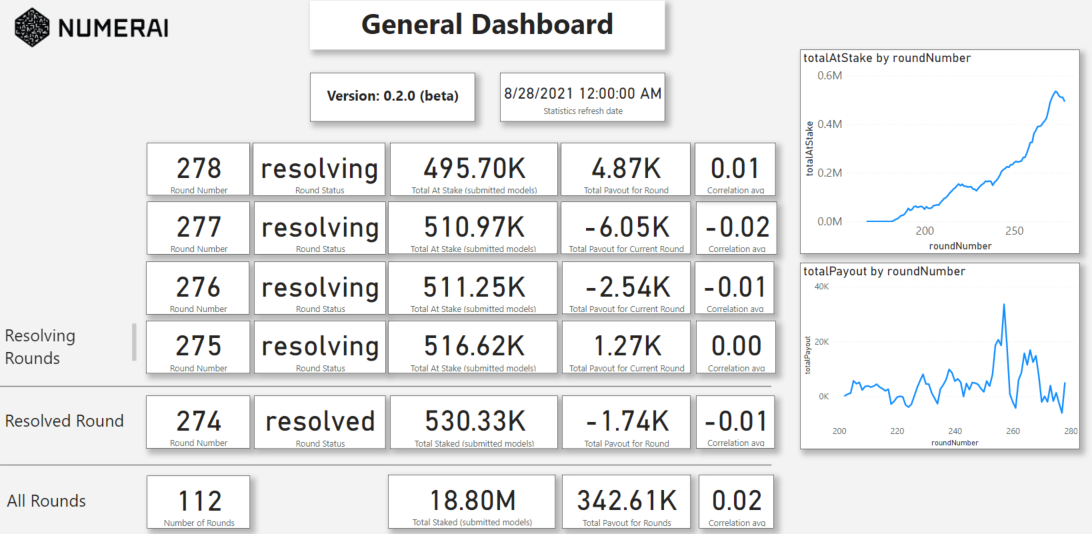

This screenshot's page, from the dashboard's own definition file:
{"tool":"powerbi","page":{"name":"General","canvas":[2076,1020],"ordinal":0},"visuals":[{"type":"card","fields":{"Values":["Max(roundDetails.roundNumber)"]},"box":[282.5,277.5,194.8,99.8],"z":0},{"type":"card","fields":{"Values":["Min(roundDetails.status)"]},"box":[483.2,276.9,250.9,100.4],"z":1000},{"type":"card","fields":{"Values":["Sum(roundDetails.totalAtStake)"]},"box":[743.4,276.9,317.8,100.4],"z":2000},{"type":"image","box":[24.5,6.1,310.9,104.3],"z":3000},{"type":"textbox","box":[590.5,6.9,672.9,92.7],"z":4000},{"type":"card","fields":{"Values":["Sum(roundDetails.totalPayout)"]},"box":[1066.8,276.9,245.3,100.4],"z":5000},{"type":"textbox","box":[7.2,774.4,257.7,59.3],"z":6000},{"type":"textbox","box":[11.3,927.1,257.7,61.4],"z":7000},{"type":"card","fields":{"Values":["Max(roundDetails.roundNumber)"]},"box":[280,756,197,100],"z":8000},{"type":"card","fields":{"Values":["Min(roundDetails.status)"]},"box":[485.1,756.4,249,100.4],"z":9000},{"type":"card","fields":{"Values":["Sum(roundDetails.totalAtStake)"]},"box":[743.4,756.4,317.8,100.4],"z":10000},{"type":"card","fields":{"Values":["Sum(roundDetails.totalPayout)"]},"box":[1068.7,756.4,243.5,100.4],"z":11000},{"type":"card","fields":{"Values":["Avg(allRoundModelPerformances.corr)"]},"box":[1322,756,149,100],"z":12000},{"type":"card","fields":{"Values":["Sum(roundDetails.totalAtStake)"]},"box":[740.1,905.9,317.4,102],"z":13000},{"type":"card","fields":{"Values":["Sum(roundDetails.totalPayout)"]},"box":[1069,906,244,102],"z":14000},{"type":"card","fields":{"Values":["Avg(allRoundModelPerformances.corr)"]},"box":[1329,906,142,102],"z":15000},{"type":"card","fields":{"Values":["Count(roundDetails.roundNumber)"]},"box":[282,907,195,100],"z":16000},{"type":"shape","box":[-0.5,713.9,1465.9,48.1],"z":17000},{"type":"shape","box":[4.2,874.7,1462.5,24],"z":18000},{"type":"lineChart","fields":{"Y":["Sum(roundDetails.totalAtStake)"],"Category":["roundDetails.roundNumber"]},"box":[1520.3,100.4,529.7,386.6],"z":19000},{"type":"lineChart","fields":{"Y":["Sum(roundDetails.totalPayout)"],"Category":["roundDetails.roundNumber"]},"box":[1520.3,503.7,529.7,353.1],"z":20000},{"type":"card","fields":{"Values":["Max(roundDetails.roundNumberMin1)"]},"box":[282.5,389.1,194.8,99.8],"z":22000},{"type":"card","fields":{"Values":["Min(roundDetails.status)"]},"box":[485,389,250,100],"z":23000},{"type":"card","fields":{"Values":["Sum(roundDetails.totalAtStake)"]},"box":[740,389,321,99],"z":24000},{"type":"card","fields":{"Values":["Sum(roundDetails.totalPayout)"]},"box":[1067,389,246,99],"z":25000},{"type":"card","fields":{"Values":["Avg(allRoundModelPerformances.corr)"]},"box":[1322.3,389.1,153.4,99.8],"z":26000},{"type":"card","fields":{"Values":["Max(roundDetails.roundNumberMin2)"]},"box":[281,502,196,100],"z":27000},{"type":"card","fields":{"Values":["Min(roundDetails.status)"]},"box":[485,502,250,100],"z":28000},{"type":"card","fields":{"Values":["Sum(roundDetails.totalAtStake)"]},"box":[740,503,321,100],"z":29000},{"type":"card","fields":{"Values":["Sum(roundDetails.totalPayout)"]},"box":[1068.9,502.3,243.8,99.2],"z":30000},{"type":"card","fields":{"Values":["Avg(allRoundModelPerformances.corr)"]},"box":[1321.2,502.3,150.2,99.2],"z":31000},{"type":"card","fields":{"Values":["Max(roundDetails.roundNumberMin3)"]},"box":[280,614,197,100],"z":32000},{"type":"card","fields":{"Values":["Min(roundDetails.status)"]},"box":[485,614,250,100],"z":33000},{"type":"card","fields":{"Values":["Sum(roundDetails.totalAtStake)"]},"box":[740,614,321,100],"z":34000},{"type":"card","fields":{"Values":["Sum(roundDetails.totalPayout)"]},"box":[1069,614,244,100],"z":35000},{"type":"card","fields":{"Values":["Avg(allRoundModelPerformances.corr)"]},"box":[1322,614,151,100],"z":36000},{"type":"card","fields":{"Values":["Avg(allRoundModelPerformances.corr)"]},"box":[1321.4,276.9,152.4,100.4],"z":37000},{"type":"textbox","box":[7.7,614.3,259.7,87.9],"z":38000},{"type":"textbox","box":[590.5,144.2,312.4,92.7],"z":39000},{"type":"card","fields":{"Values":["Max(allDailyModelPerformances.date)"]},"box":[951,144.2,312.4,92.7],"z":40000}]}

Visuals, with their boxes in screenshot pixels (x1, y1, x2, y2), scaled from the page's 2076x1020 canvas onto the 1092x534 screenshot:
card - Max(roundDetails.roundNumber): (149,145,251,198)
card - Min(roundDetails.status): (254,145,386,198)
card - Sum(roundDetails.totalAtStake): (391,145,558,198)
image: (13,3,176,58)
textbox: (311,4,665,52)
card - Sum(roundDetails.totalPayout): (561,145,690,198)
textbox: (4,405,139,436)
textbox: (6,485,141,518)
card - Max(roundDetails.roundNumber): (147,396,251,448)
card - Min(roundDetails.status): (255,396,386,449)
card - Sum(roundDetails.totalAtStake): (391,396,558,449)
card - Sum(roundDetails.totalPayout): (562,396,690,449)
card - Avg(allRoundModelPerformances.corr): (695,396,774,448)
card - Sum(roundDetails.totalAtStake): (389,474,556,528)
card - Sum(roundDetails.totalPayout): (562,474,691,528)
card - Avg(allRoundModelPerformances.corr): (699,474,774,528)
card - Count(roundDetails.roundNumber): (148,475,251,527)
shape: (0,374,771,399)
shape: (2,458,772,470)
lineChart - Sum(roundDetails.totalAtStake) x roundDetails.roundNumber: (800,53,1078,255)
lineChart - Sum(roundDetails.totalPayout) x roundDetails.roundNumber: (800,264,1078,449)
card - Max(roundDetails.roundNumberMin1): (149,204,251,256)
card - Min(roundDetails.status): (255,204,387,256)
card - Sum(roundDetails.totalAtStake): (389,204,558,255)
card - Sum(roundDetails.totalPayout): (561,204,691,255)
card - Avg(allRoundModelPerformances.corr): (696,204,776,256)
card - Max(roundDetails.roundNumberMin2): (148,263,251,315)
card - Min(roundDetails.status): (255,263,387,315)
card - Sum(roundDetails.totalAtStake): (389,263,558,316)
card - Sum(roundDetails.totalPayout): (562,263,690,315)
card - Avg(allRoundModelPerformances.corr): (695,263,774,315)
card - Max(roundDetails.roundNumberMin3): (147,321,251,374)
card - Min(roundDetails.status): (255,321,387,374)
card - Sum(roundDetails.totalAtStake): (389,321,558,374)
card - Sum(roundDetails.totalPayout): (562,321,691,374)
card - Avg(allRoundModelPerformances.corr): (695,321,775,374)
card - Avg(allRoundModelPerformances.corr): (695,145,775,198)
textbox: (4,322,141,368)
textbox: (311,75,475,124)
card - Max(allDailyModelPerformances.date): (500,75,665,124)
